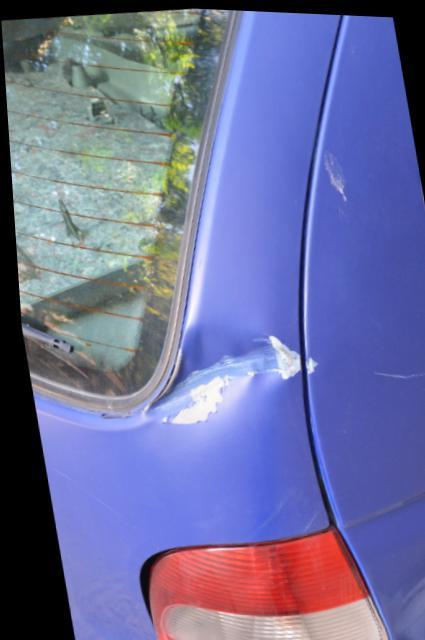dent: (145, 325, 279, 420)
